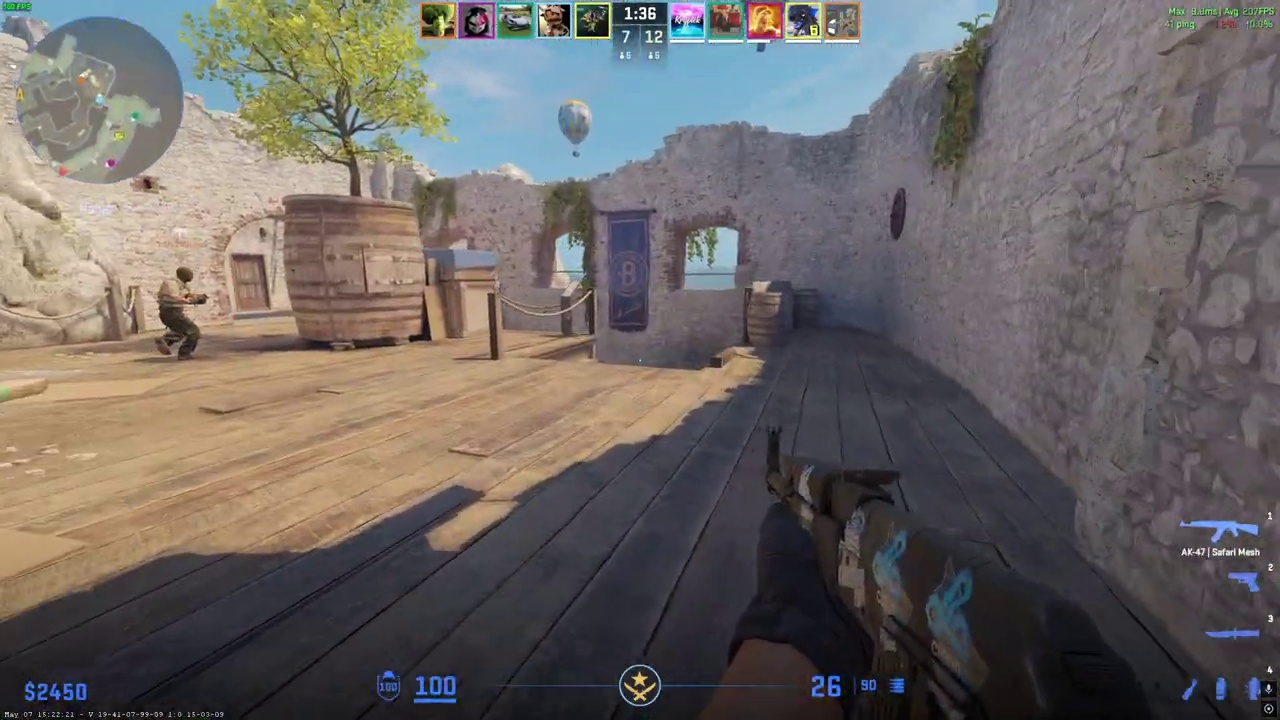Terrorist: (156, 267, 203, 360)
